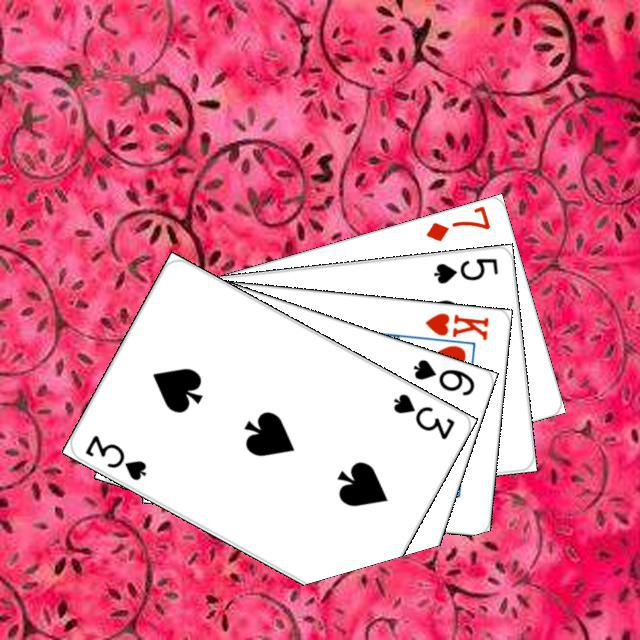3s: (388, 388, 457, 441), (79, 430, 148, 483)
5s: (428, 253, 500, 285)
6s: (408, 354, 477, 398)
7d: (421, 203, 492, 243)
Kh: (412, 308, 491, 350)
